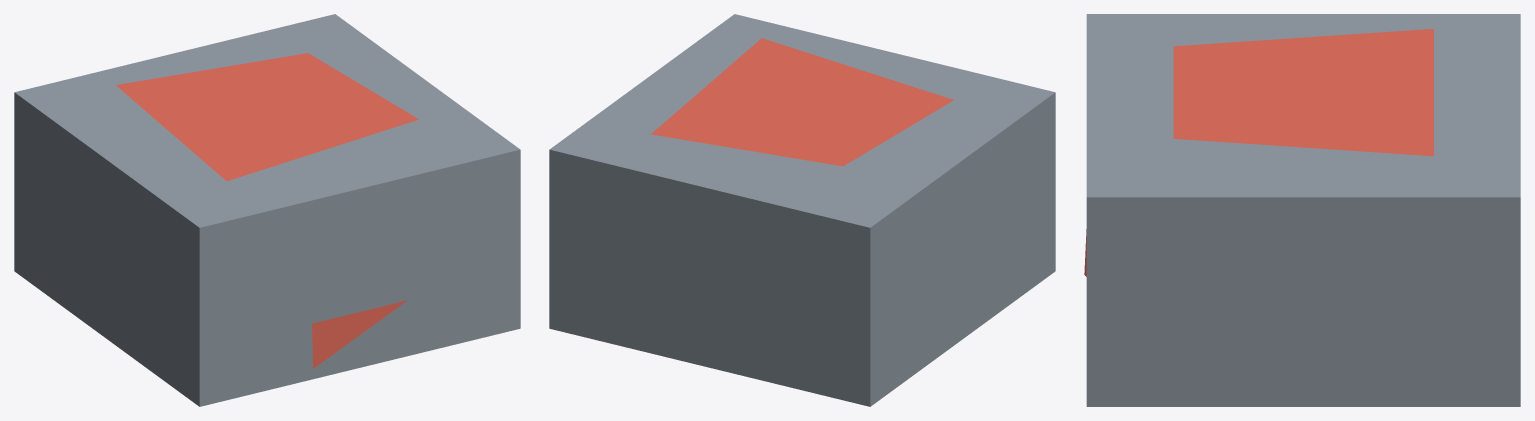
File: SU_Barracks_LOD1.glb
3 views of the same model, side by side, from view 1: azimuth 30°, elevation 25°; view 2: azimuth 150°, elevation 25°; view 3: azimuth 270°, elevation 25° (orthographic). The views are drawn at different scales.
Parts seen in each view (by area): view 1: EntranceGate; view 2: EntranceGate; view 3: EntranceGate.
Boxes of the visible parts, x1=… form: EntranceGate: x1=14, y1=14, x2=520, y2=406; EntranceGate: x1=549, y1=14, x2=1055, y2=406; EntranceGate: x1=1084, y1=14, x2=1520, y2=406.
Bounding box in the file's own units: 600 × 353 × 603.
